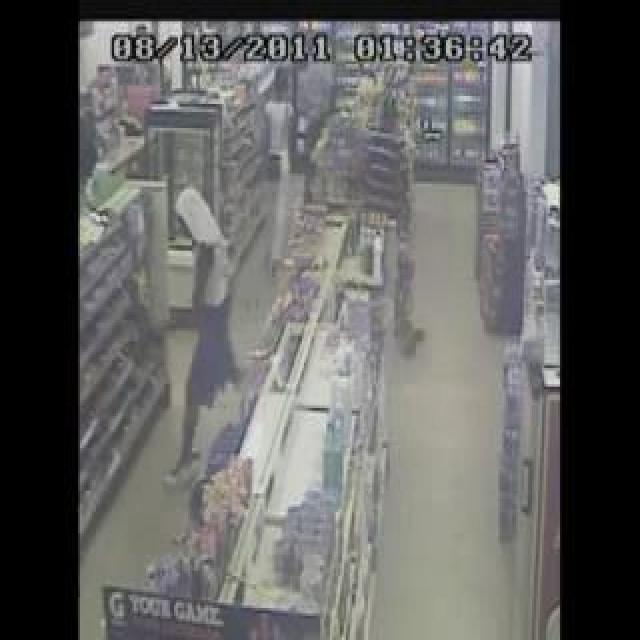thief: (174, 171, 248, 315), (272, 80, 322, 204)
